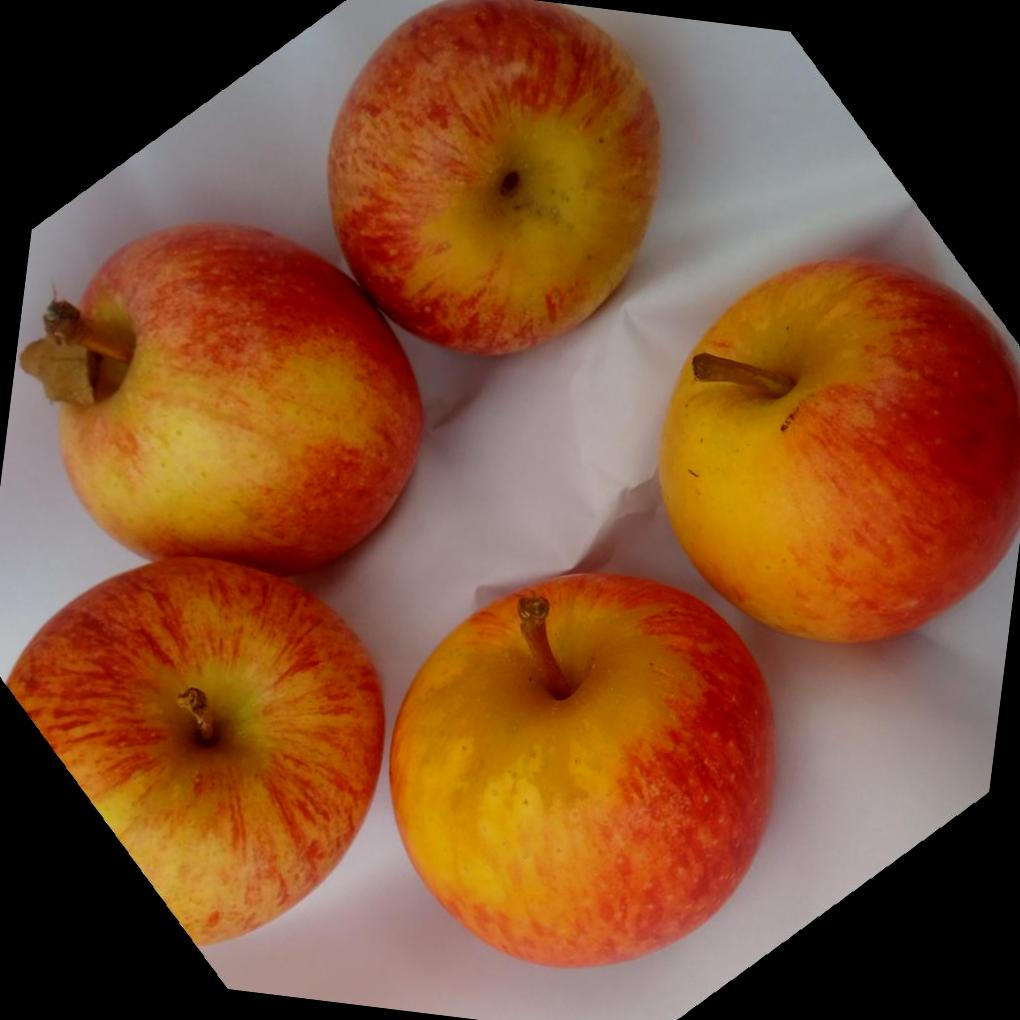FreshGuava: (5, 0, 774, 966), (657, 253, 1020, 642)
